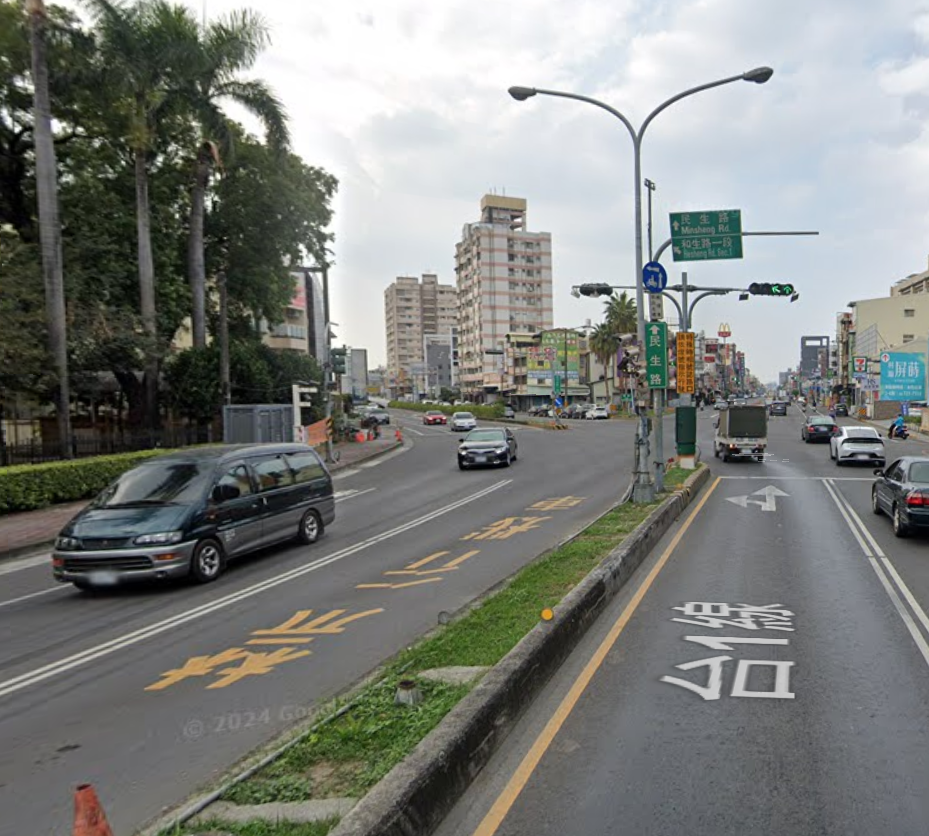green: (746, 276, 803, 301)
